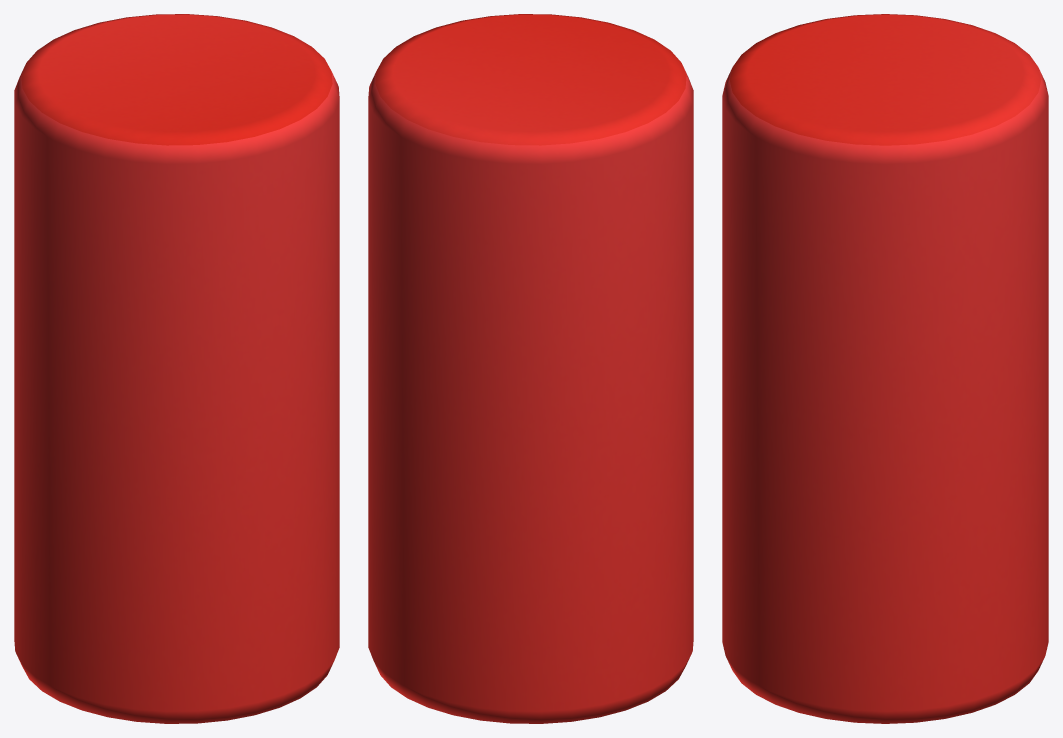
The model's file is BlockCylinderRed.fbx.
The picture shows the model from 3 angles, left to right: view 1: azimuth 30°, elevation 25°; view 2: azimuth 150°, elevation 25°; view 3: azimuth 270°, elevation 25°; orthographic projection.
Parts seen in each view (by area): view 1: Cylinder; view 2: Cylinder; view 3: Cylinder.
Part boxes in pixels (<box>): Cylinder: <box>14,14,339,723</box>; Cylinder: <box>368,14,693,723</box>; Cylinder: <box>722,14,1048,723</box>.
Size of the model in its own units: 200 by 400 by 200.
